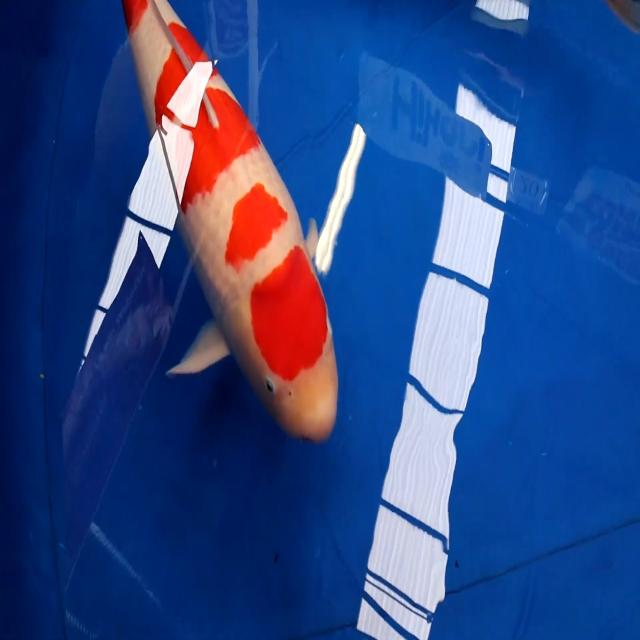Kohaku: (118, 0, 365, 444)
